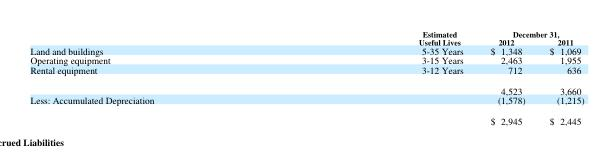table: (29, 28, 583, 126)
table column: (29, 28, 285, 126), (285, 28, 476, 126), (476, 28, 536, 126), (536, 28, 583, 126)
table column header: (29, 28, 583, 46)
table row: (29, 110, 583, 126), (29, 65, 583, 80), (29, 80, 583, 95), (29, 95, 583, 110), (29, 28, 583, 38), (29, 55, 583, 65), (29, 46, 583, 55), (29, 38, 583, 46)
table spanning cell: (29, 95, 285, 126), (29, 65, 285, 95), (285, 28, 476, 46), (476, 28, 583, 38)
